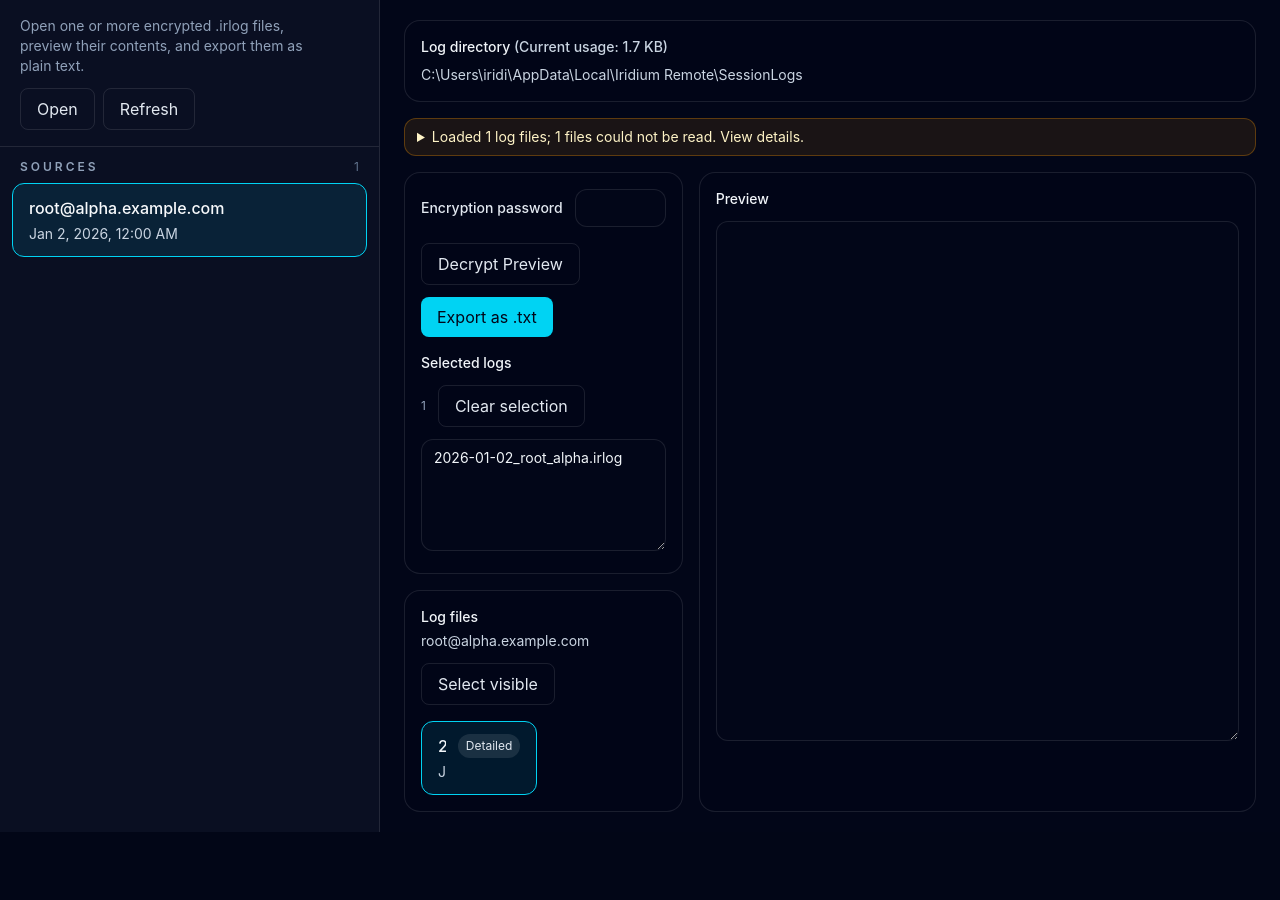
Scenario: SessionLogsWorkspace › shows readable logs and warning details in en
Expected: the text "2026-01-02_root_alpha.irlog" is shown, [438, 734, 446, 758]
Click the heading "Loaded 1 log files; 1 files could not be read. View details.".
click(618, 136)  # box [432, 128, 804, 145]
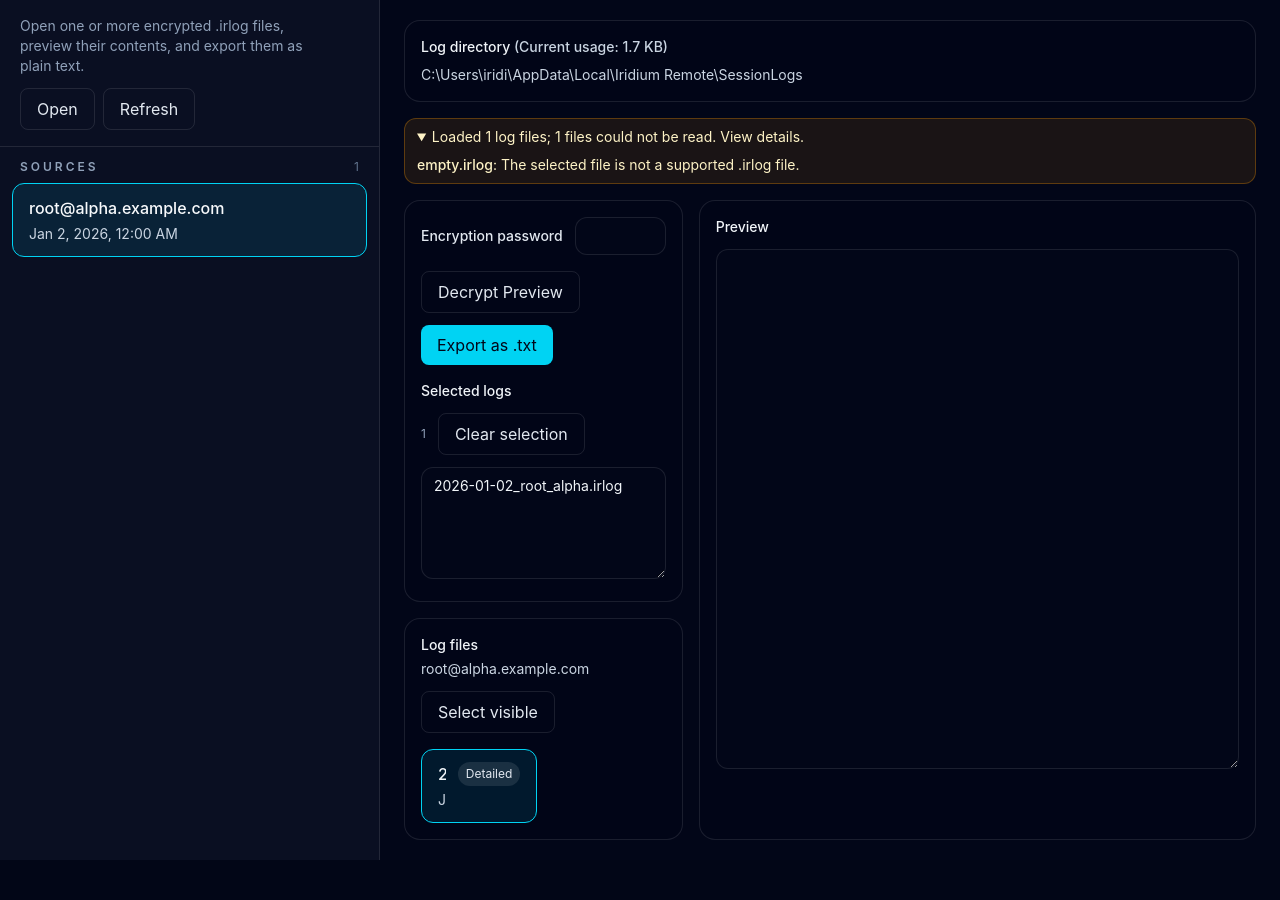
Expected: the text "empty.irlog" is shown, [417, 156, 493, 173]
Expected: the list item "The selected file is not a supported .irlog file." is shown, [501, 156, 800, 173]
